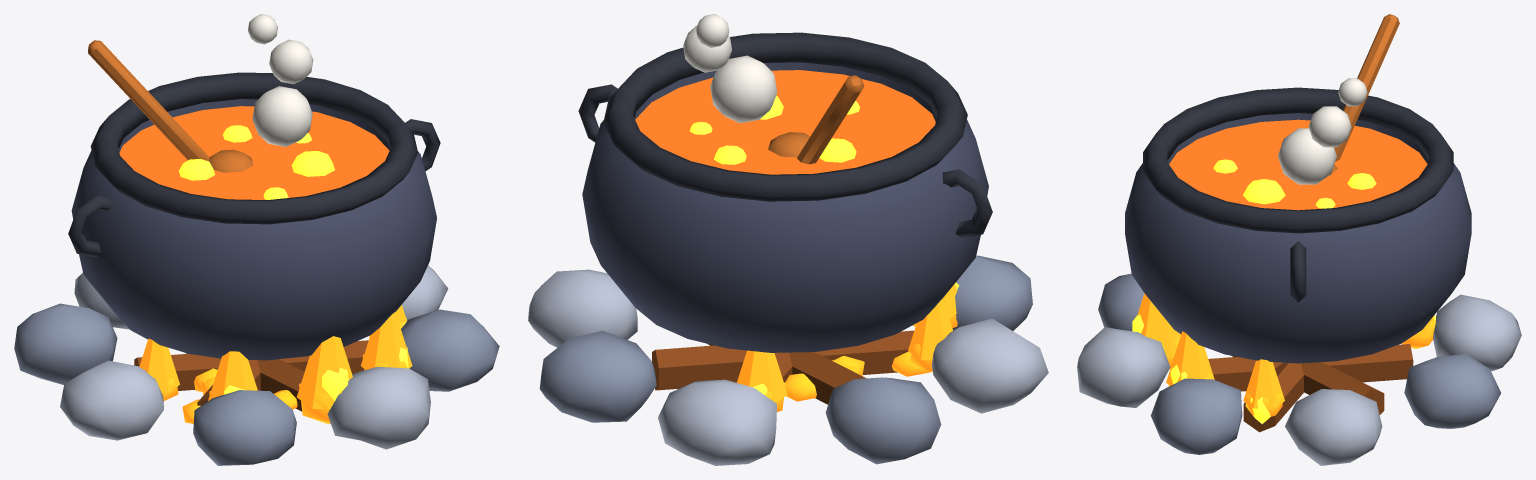
The model's file is kitchen.fbx.
The picture shows the model from 3 angles, left to right: view 1: azimuth 30°, elevation 25°; view 2: azimuth 150°, elevation 25°; view 3: azimuth 270°, elevation 25°; orthographic projection. The views are drawn at different scales.
Parts seen in each view (by area): view 1: kitchen; view 2: kitchen; view 3: kitchen.
Boxes of the visible parts, x1,y1,x2,y2 form: kitchen: [14, 14, 499, 465]; kitchen: [528, 14, 1048, 465]; kitchen: [1077, 14, 1521, 465].
Bounding box in the file's own units: 202 × 158 × 196.
